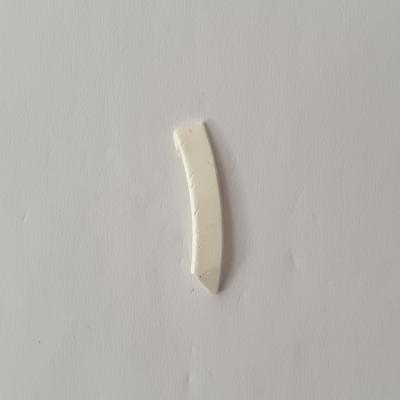plastic: (170, 114, 241, 301)
